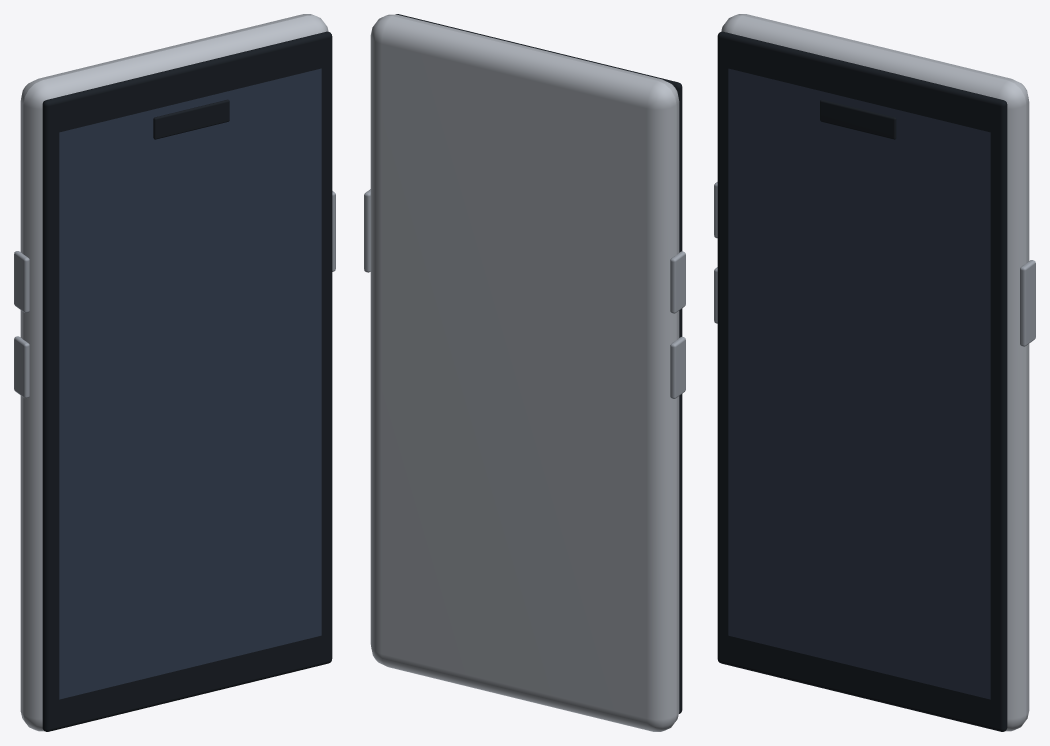
Rendered from phone.glb.
3 renders of one model, left to right at view 1: azimuth 30°, elevation 25°; view 2: azimuth 150°, elevation 25°; view 3: azimuth 330°, elevation 25°, orthographic.
Parts seen in each view (by area): view 1: Screen, Front glass, Titanium frame, Camera island, Volume button.001, Volume button; view 2: Titanium frame, Front glass, Volume button, Volume button.001, Power button; view 3: Screen, Front glass, Titanium frame, Camera island, Power button.
Part boxes in pixels (bbox=[...]): Screen: bbox=[59, 68, 321, 699]; Front glass: bbox=[42, 31, 332, 731]; Titanium frame: bbox=[20, 14, 328, 731]; Camera island: bbox=[153, 99, 229, 139]; Volume button.001: bbox=[14, 336, 29, 398]; Volume button: bbox=[14, 251, 29, 312]; Titanium frame: bbox=[370, 14, 679, 731]; Front glass: bbox=[395, 14, 682, 713]; Volume button: bbox=[670, 251, 685, 313]; Volume button.001: bbox=[670, 336, 685, 398]; Power button: bbox=[364, 189, 370, 272]; Screen: bbox=[728, 68, 990, 699]; Front glass: bbox=[717, 31, 1007, 731]; Titanium frame: bbox=[721, 14, 1029, 731]; Camera island: bbox=[820, 99, 896, 139]; Power button: bbox=[1020, 260, 1035, 346].
Size of the model in its own units: 1.07 by 2.13 by 0.1695.
